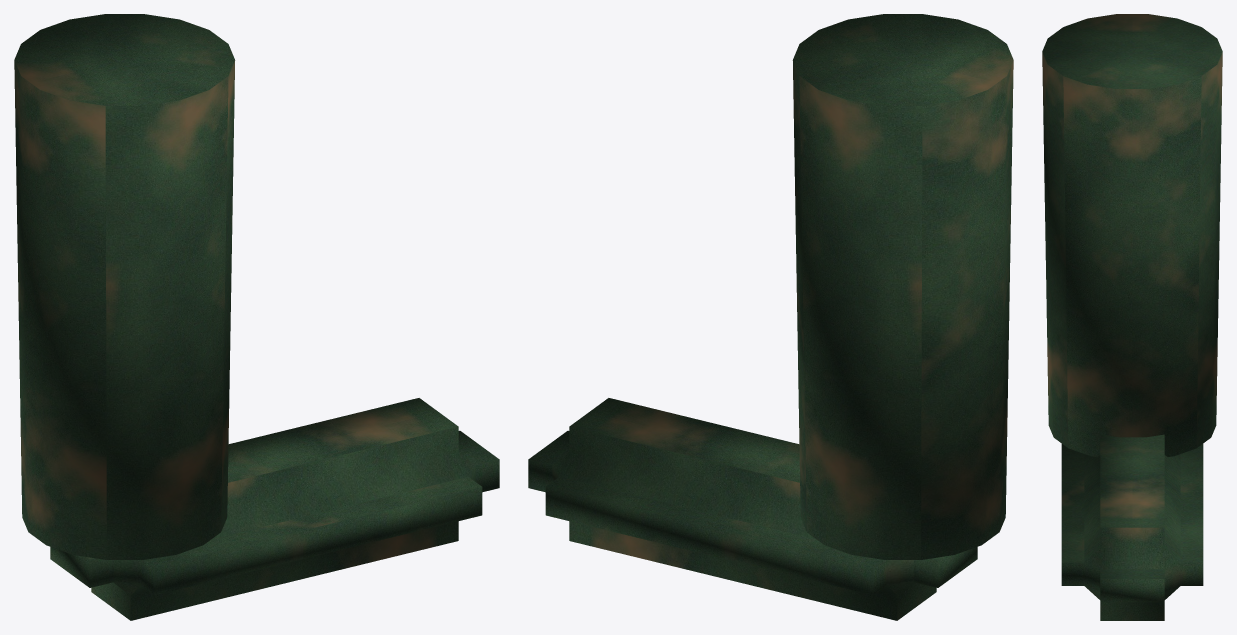
Rendered from bota.fbx.
3 renders of one model, left to right at view 1: azimuth 30°, elevation 25°; view 2: azimuth 150°, elevation 25°; view 3: azimuth 270°, elevation 25°, orthographic. The views are drawn at different scales.
Parts seen in each view (by area): view 1: bota; view 2: bota; view 3: bota.
Part boxes in pixels (<box>): bota: <box>14,14,499,620</box>; bota: <box>528,14,1013,620</box>; bota: <box>1042,14,1222,620</box>.
Size of the model in its own units: 0.3289 by 0.38 by 0.14.
1 material, 1 textured.
